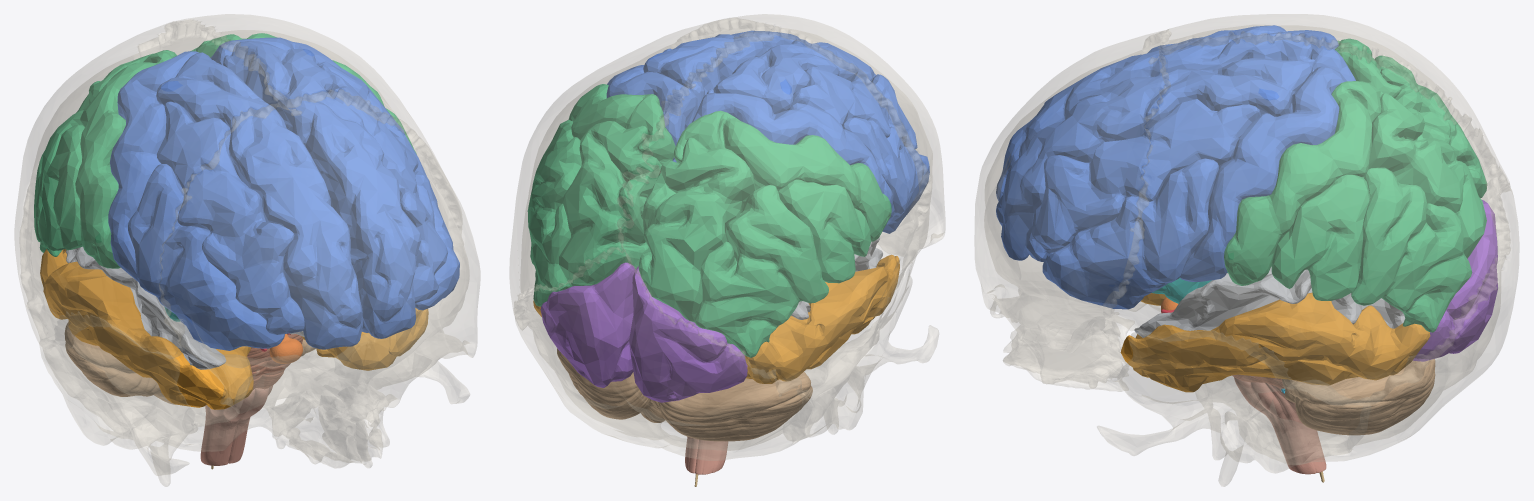
The model's file is bodyparts3d-brain-skull.glb.
The picture shows the model from 3 angles, left to right: view 1: azimuth 30°, elevation 25°; view 2: azimuth 150°, elevation 25°; view 3: azimuth 270°, elevation 25°; orthographic projection. The views are drawn at different scales.
Visible parts, largest first — view 1: neurocranium, frontal_r, frontal_l, temporal_r, parietal_r, deep_r, cerebellum, medulla, temporal_l, pons, parietal_l, pituitary; view 2: neurocranium, parietal_r, parietal_l, frontal_r, cerebellum, occipital_r, temporal_r, occipital_l, frontal_l, medulla, deep_r; view 3: neurocranium, frontal_l, parietal_l, temporal_l, frontal_r, cerebellum, deep_l, parietal_r, occipital_l, medulla, insula_l.
Part boxes in pixels (x1,y1,x2,y2): neurocranium: (14, 14, 480, 486); frontal_r: (108, 51, 362, 350); frontal_l: (210, 37, 459, 338); temporal_r: (40, 249, 253, 409); parietal_r: (34, 50, 176, 268); deep_r: (66, 246, 304, 369); cerebellum: (64, 322, 315, 404); medulla: (200, 385, 272, 465); temporal_l: (301, 308, 428, 370); pons: (247, 334, 303, 389); parietal_l: (190, 33, 416, 154); pituitary: (269, 334, 302, 363); neurocranium: (509, 14, 945, 460); parietal_r: (638, 110, 891, 357); parietal_l: (527, 84, 675, 306); frontal_r: (692, 39, 929, 233); cerebellum: (557, 348, 812, 441); occipital_r: (629, 266, 747, 402); temporal_r: (744, 254, 899, 383); occipital_l: (540, 262, 635, 387); frontal_l: (606, 30, 799, 162); medulla: (685, 436, 728, 474); deep_r: (791, 237, 882, 319); neurocranium: (974, 14, 1519, 486); frontal_l: (996, 58, 1344, 309); parietal_l: (1224, 81, 1486, 332); temporal_l: (1120, 292, 1430, 392); frontal_r: (996, 25, 1355, 201); cerebellum: (1282, 359, 1435, 435); deep_l: (1134, 266, 1405, 337); parietal_r: (1335, 38, 1487, 198); occipital_l: (1413, 235, 1497, 361); medulla: (1234, 377, 1326, 474); insula_l: (1152, 272, 1227, 303).
Bounding box in the file's own units: 0.151 × 0.1777 × 0.1954.
